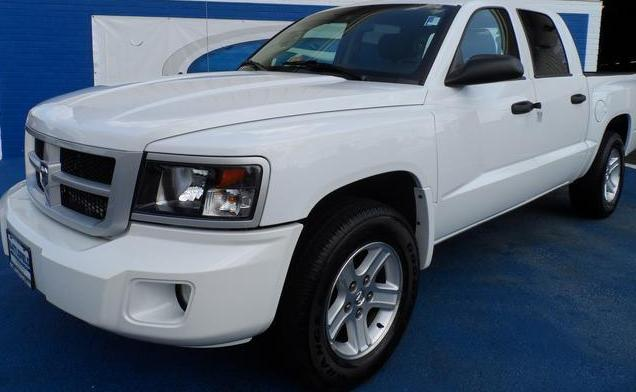front_view: (13, 115, 308, 360)
headlight: (127, 132, 270, 242)
side_glass: (447, 7, 570, 94)
